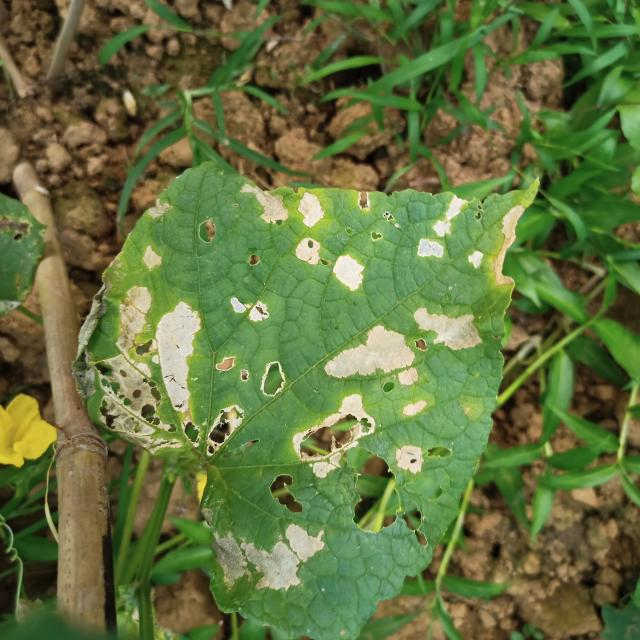disease_cucumber: (79, 172, 527, 608)
